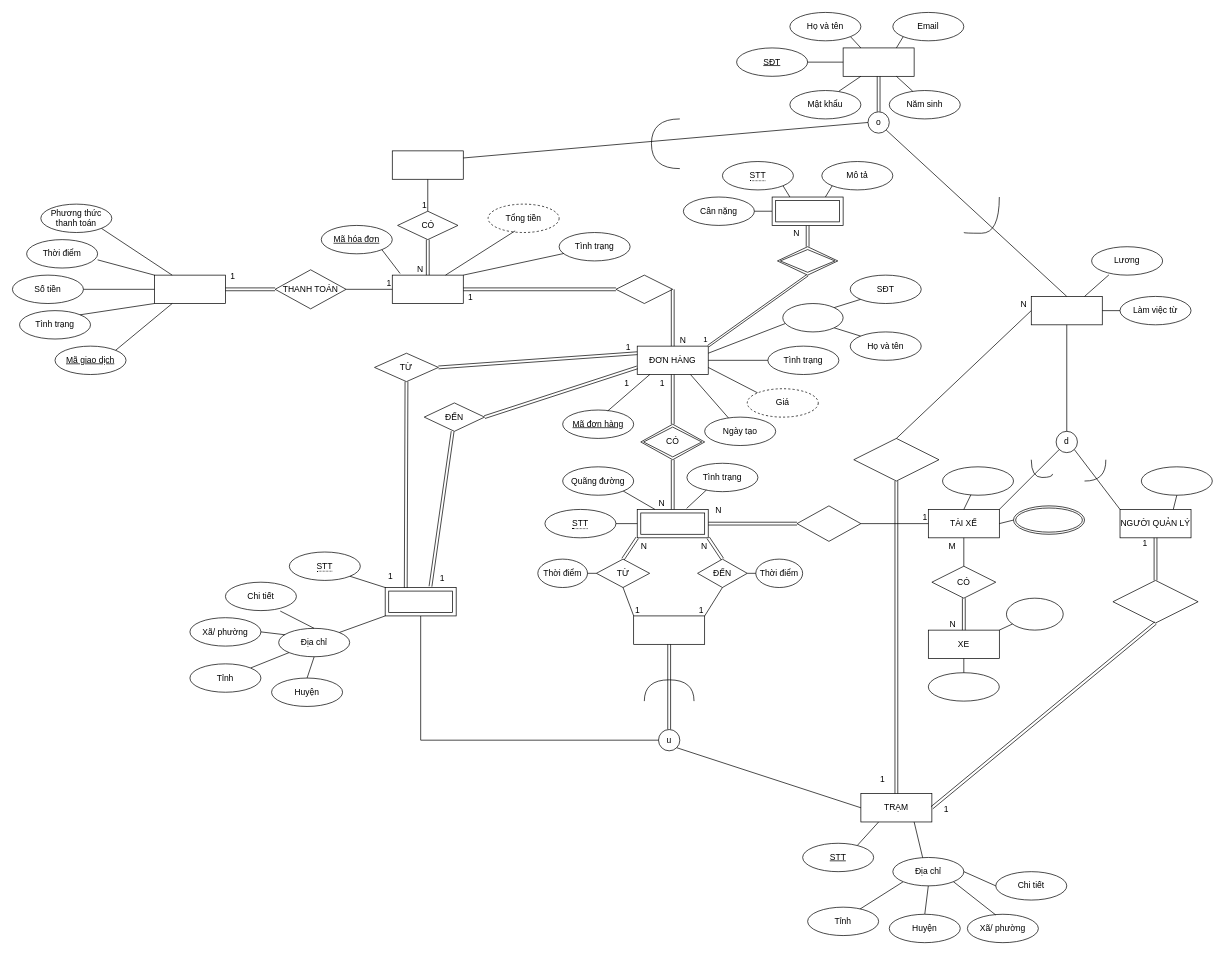
Some shapes in this 1225 by 956 pixel diagram are drawn without their labels. The shapes that lost their labels are listed below. From the top down, each one's centre as x and y in pixels, then its label:
At (878,61): "NGƯỜI DÙNG".
At (427,164): "KHÁCH HÀNG".
At (807,210): "GÓI HÀNG".
At (807,260): "GỒM".
At (189,289): "GIAO DỊCH".
At (427,289): "HOÁ ĐƠN".
At (644,289): "TRONG".
At (812,317): "Thông tin người nhận".
At (1066,310): "NHÂN VIÊN".
At (896,459): "LÀM VIỆC".
At (978,480): "Kinh nghiệm".
At (1176,480): "Cấp bậc".
At (672,523): "TUYẾN".
At (828,523): "ĐẢM NHẬN".
At (1049,519): "bầng lái".
At (420,601): "Địa chỉ KH".
At (1034,613): "Tình trạng đăng kí".
At (1155,601): "QUẢN LÝ".
At (669,629): "ĐỊA ĐIỂM".
At (963,686): "Biển số".
